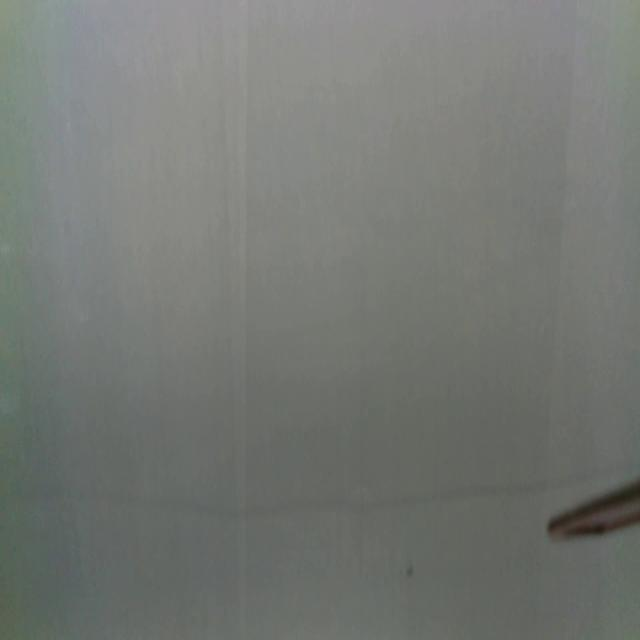color bleeding: (0, 451, 555, 520)
